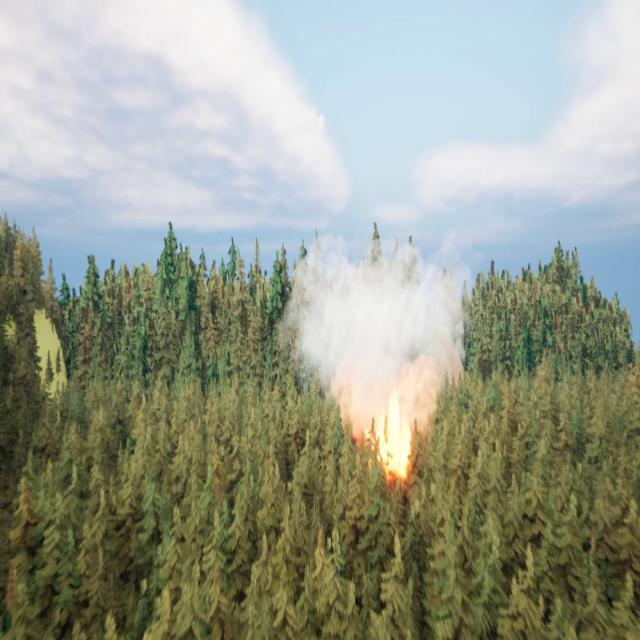fire: (372, 390, 419, 486)
smoke: (275, 234, 474, 442)
